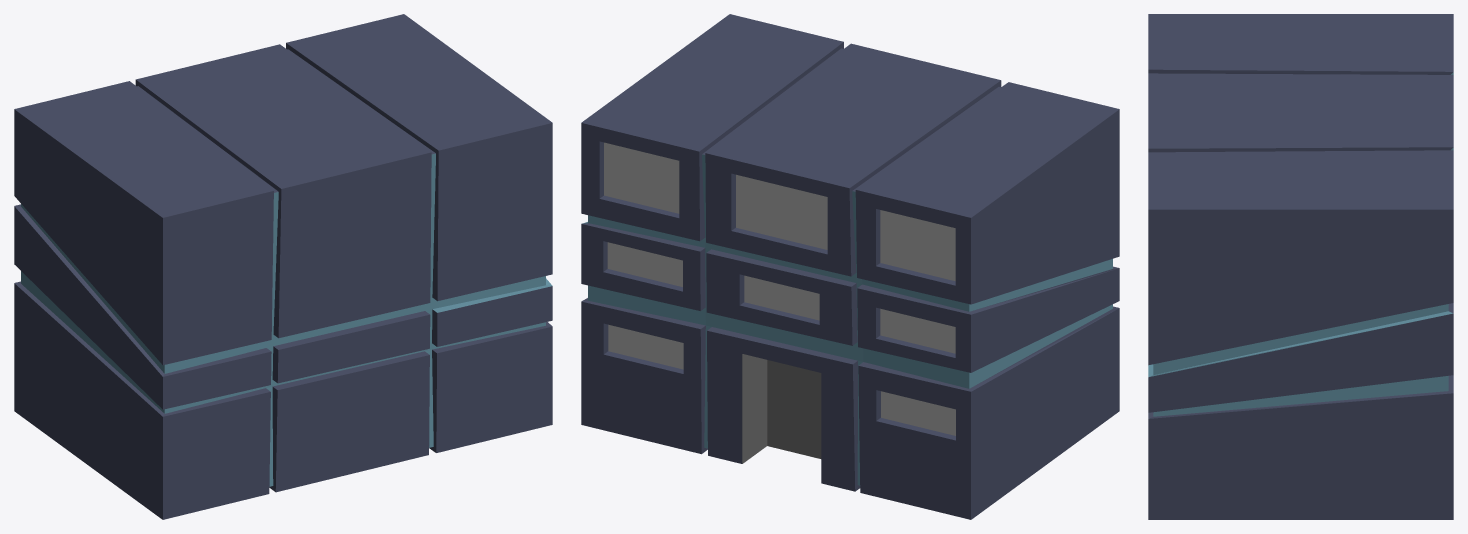
Rendered from StaticBuilding1.fbx.
3 views of the same model, side by side, from view 1: azimuth 30°, elevation 25°; view 2: azimuth 150°, elevation 25°; view 3: azimuth 270°, elevation 25° (orthographic). The views are drawn at different scales.
Parts seen in each view (by area): view 1: pCube13; view 2: pCube13; view 3: pCube13.
Part boxes in pixels (x1=…): pCube13: x1=14, y1=14, x2=552, y2=519; pCube13: x1=581, y1=14, x2=1119, y2=519; pCube13: x1=1148, y1=14, x2=1453, y2=519.
Size of the model in its own units: 20.25 by 14.99 by 13.37.
